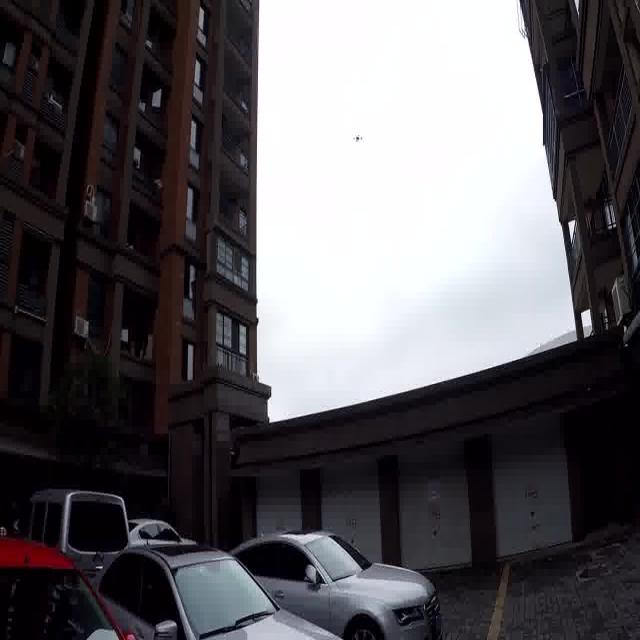drone: (328, 110, 370, 154)
